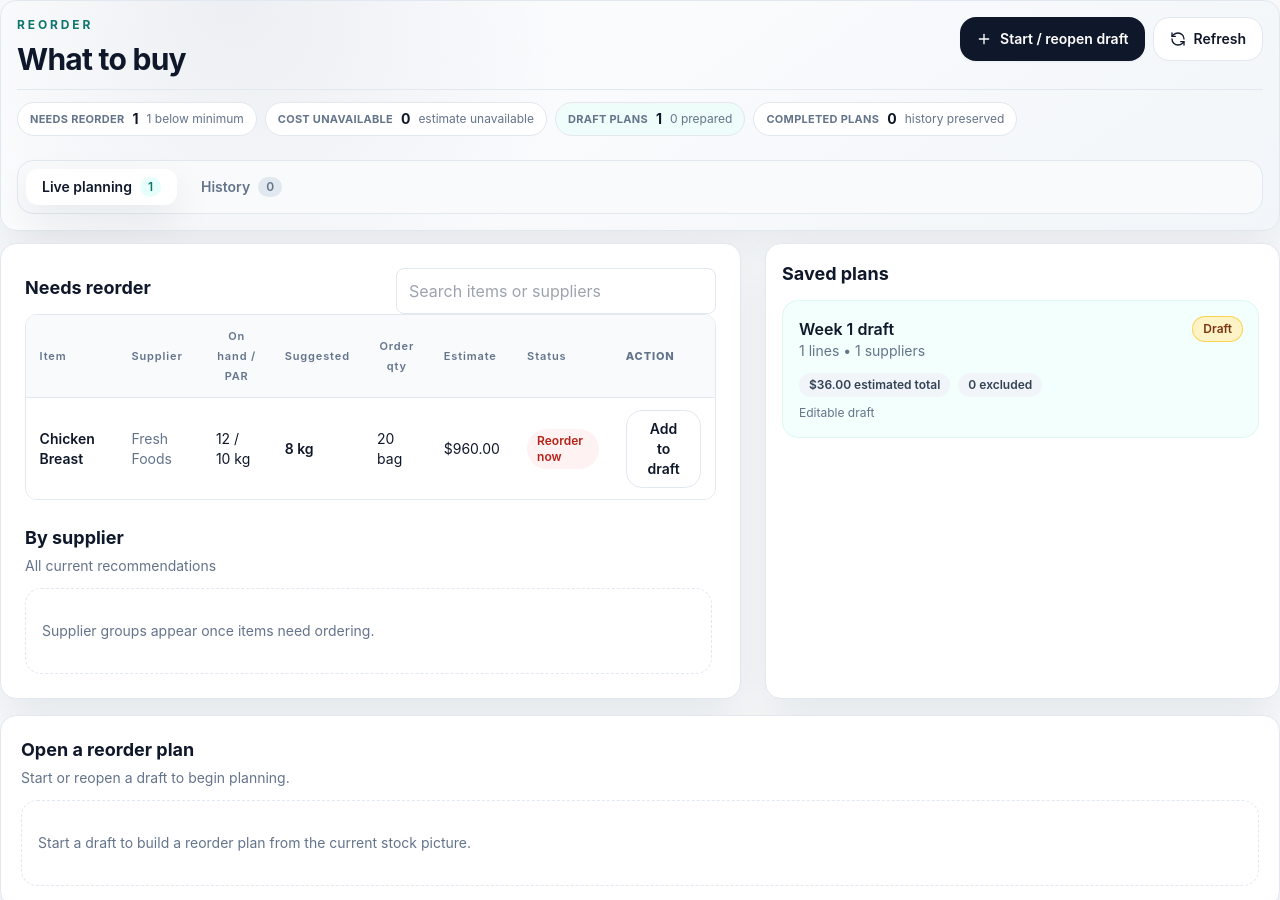
Test: PilotReorderPlanPage › derives saved review cost from quantity and saved unit price when a legacy line cost is stale
The image size is (1280, 900).
Click the button "Week 1 draft". click: x=847, y=329
box: [782,300,1259,438]
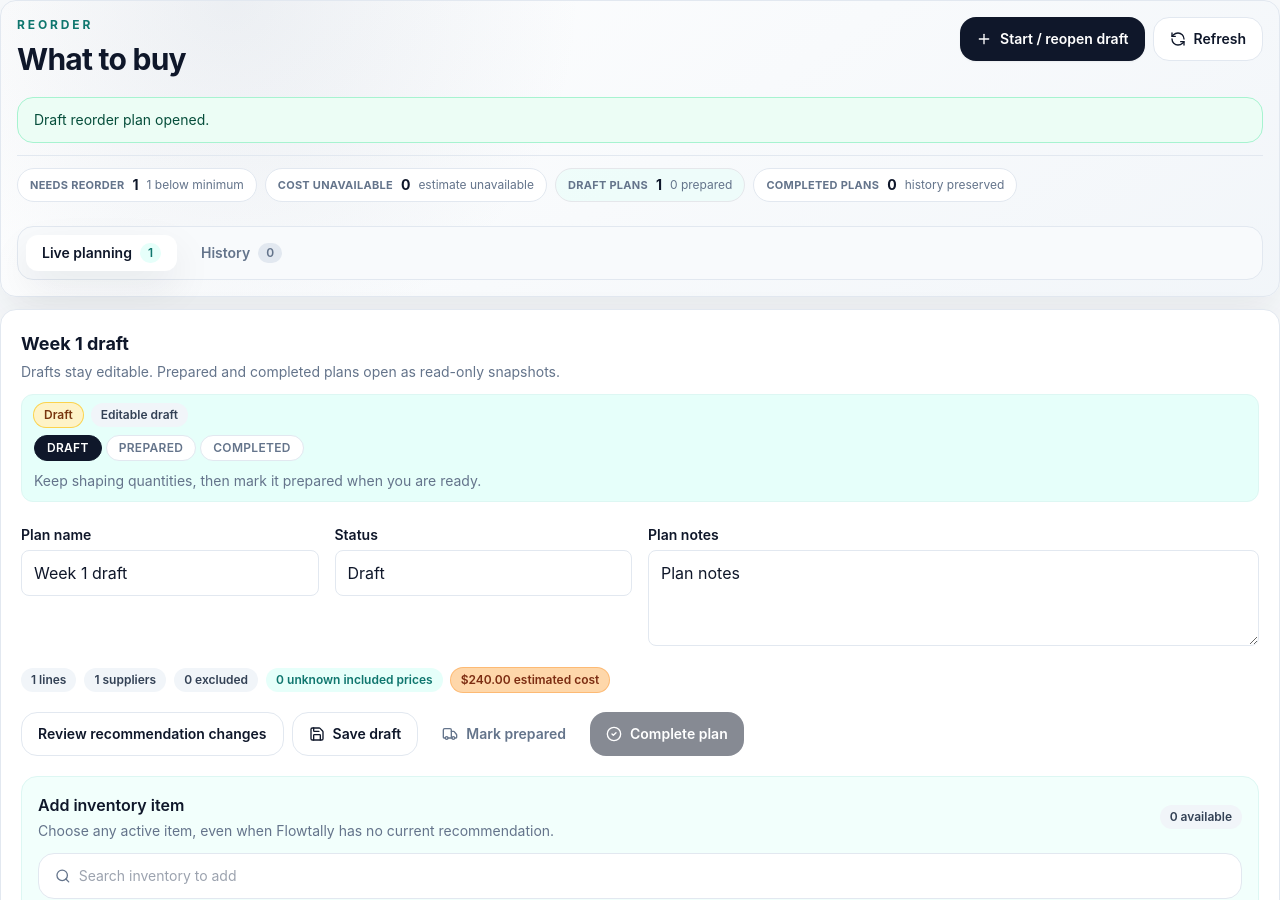
Check: the text "Draft reorder plan opened." is shown, box [17,97,1263,143]
Click the button "Review recommendation changes". click: x=152, y=734
box: [21,712,284,756]
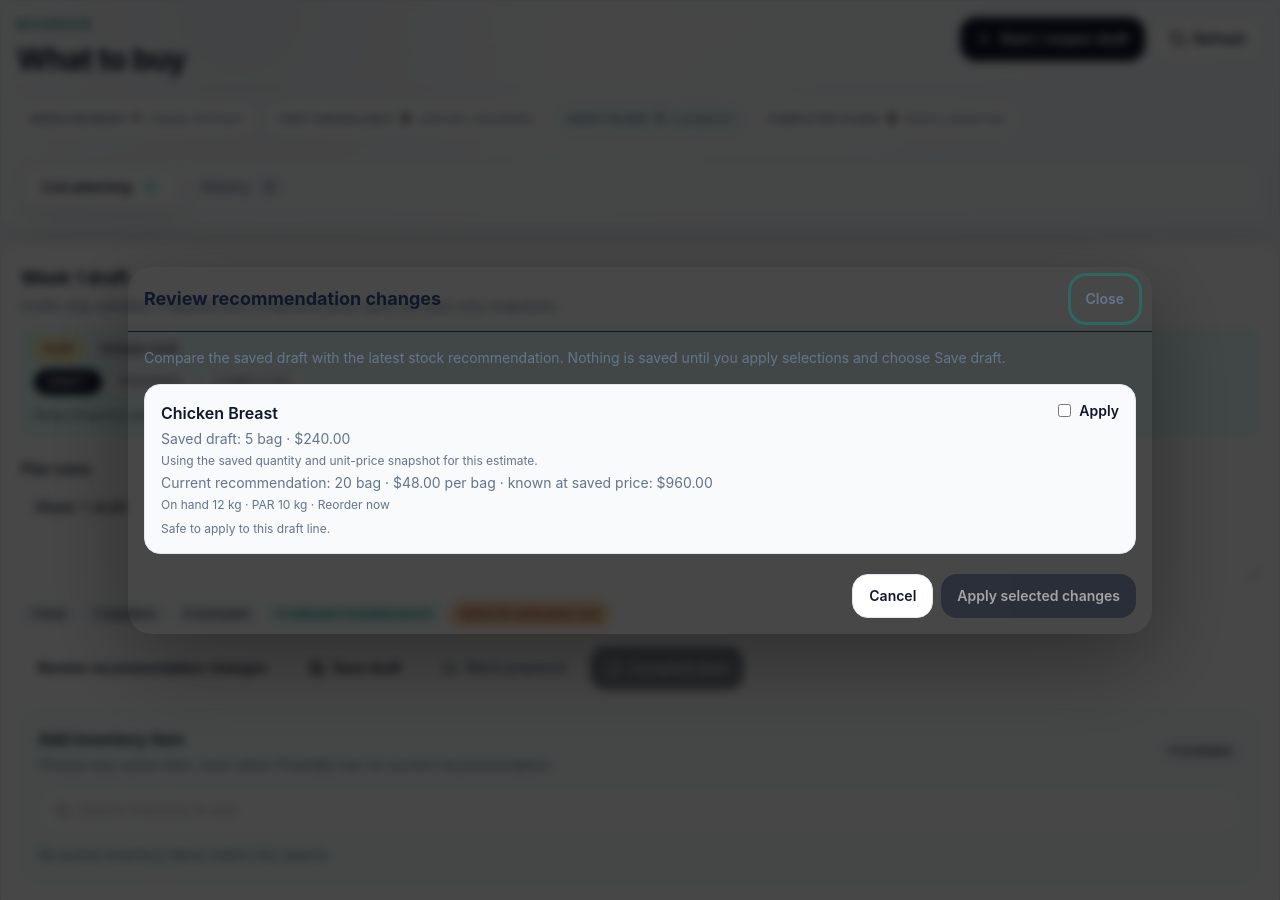
Check: the dialog "Review recommendation changes" shows "Saved draft: 5 bag · $240.00", box [128,266,1152,634]
Check: the dialog "Review recommendation changes" shows "Using the saved quantity and unit-price snapshot", box [161,452,538,468]
Check: the dialog "Review recommendation changes" shows "Current recommendation: 20 bag", box [128,266,1152,634]
